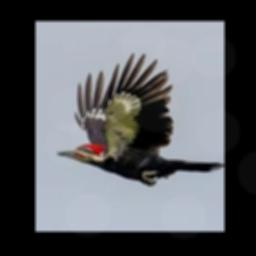Woodpecker: (55, 52, 223, 186)
